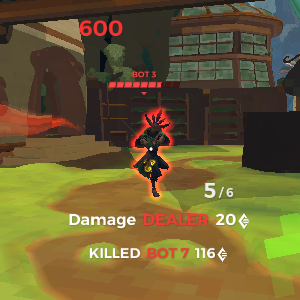model: (134, 105, 172, 195)
